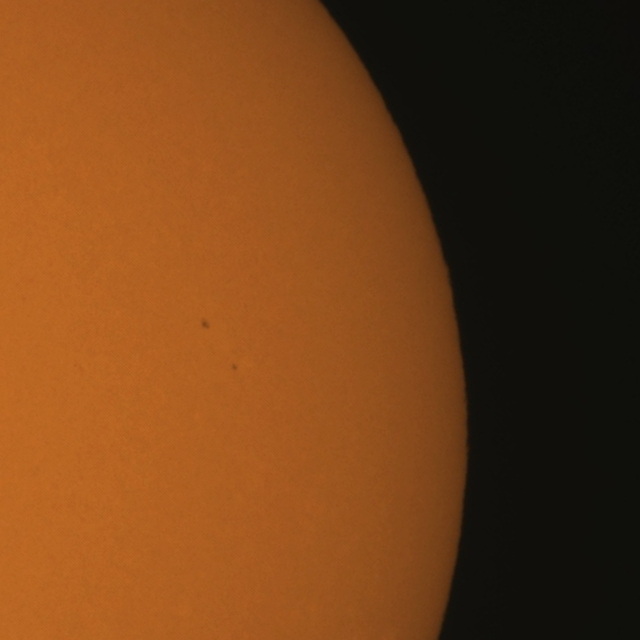sunspot: (200, 318, 211, 331), (230, 362, 239, 372)
